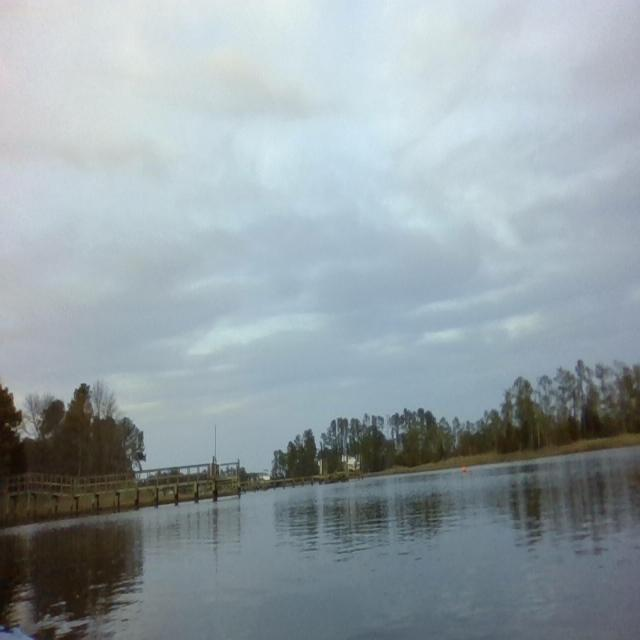Buoy: (460, 464, 468, 474)
